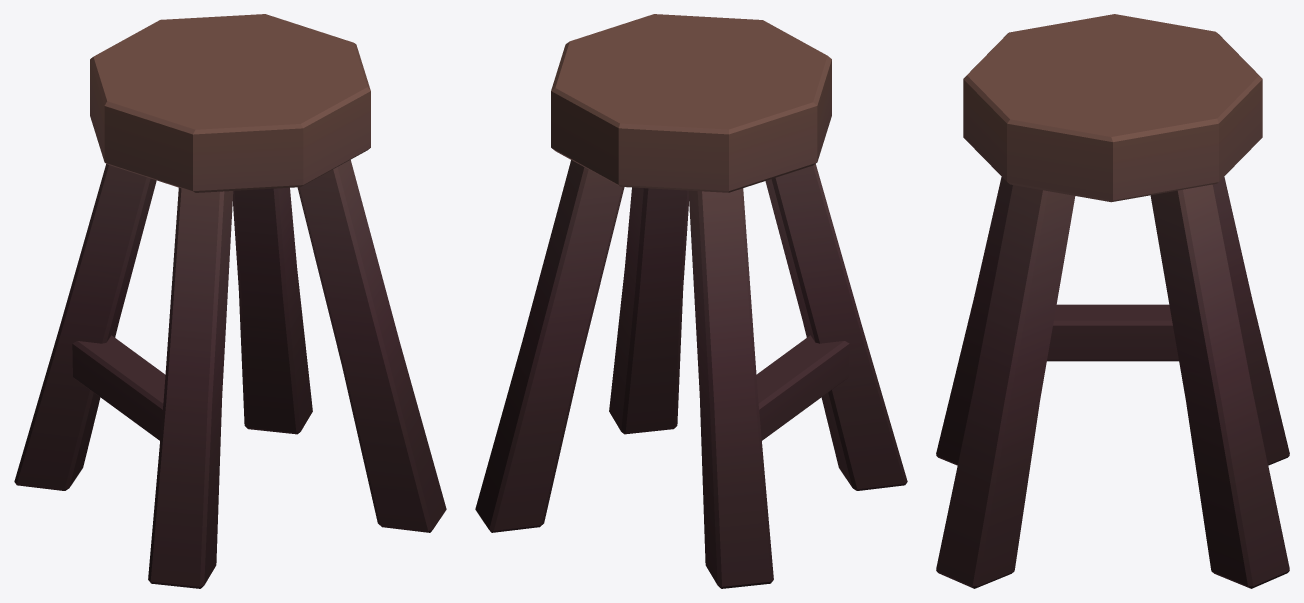
Rendered from SM_Stool.fbx.
3 views of the same model, side by side, from view 1: azimuth 30°, elevation 25°; view 2: azimuth 150°, elevation 25°; view 3: azimuth 270°, elevation 25° (orthographic). The views are drawn at different scales.
Visible parts, largest first — view 1: stool; view 2: stool; view 3: stool.
Part boxes in pixels (x1,y1,x2,y2): stool: (14, 14, 446, 588); stool: (475, 14, 907, 588); stool: (936, 14, 1289, 588).
Size of the model in its own units: 47.02 by 64.8 by 47.23.
